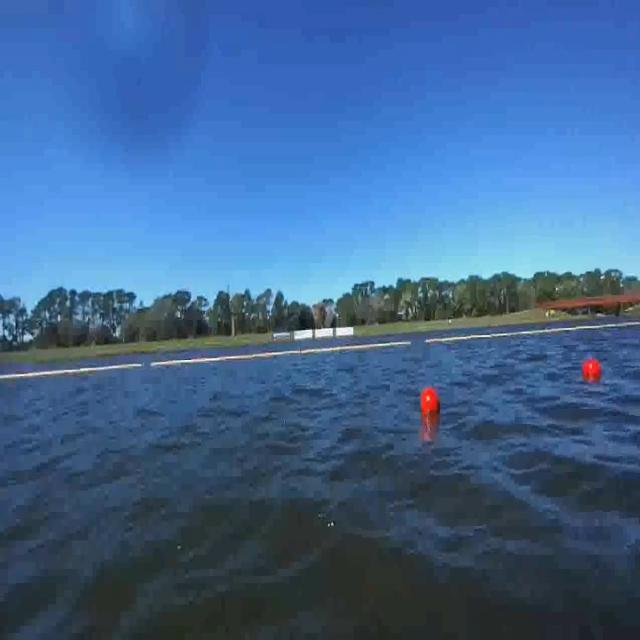red-buoy: (421, 389, 440, 418), (581, 358, 600, 381)
